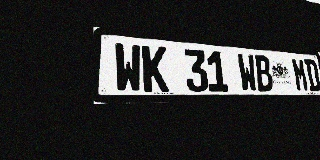1: (205, 50, 229, 92)
3: (184, 49, 209, 92)
B: (254, 55, 274, 92)
D: (304, 59, 320, 91)
K: (142, 45, 169, 92)
M: (291, 58, 309, 91)
W: (114, 43, 143, 92), (237, 53, 258, 92)
